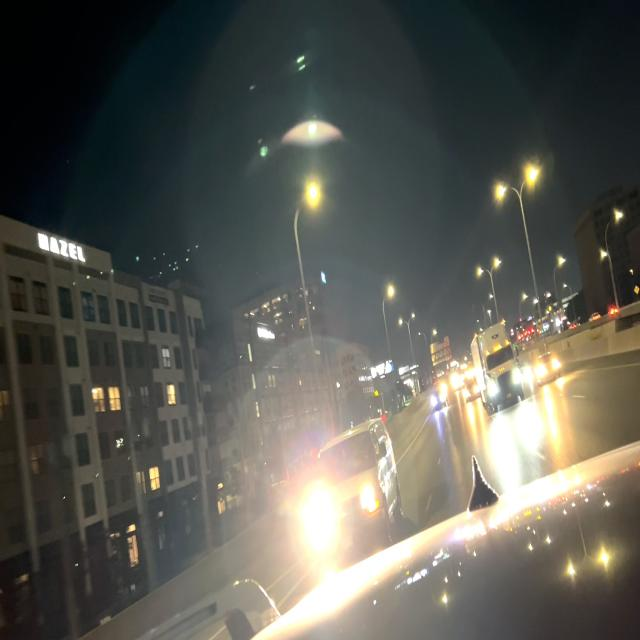back-of-sign: (431, 334, 453, 368)
